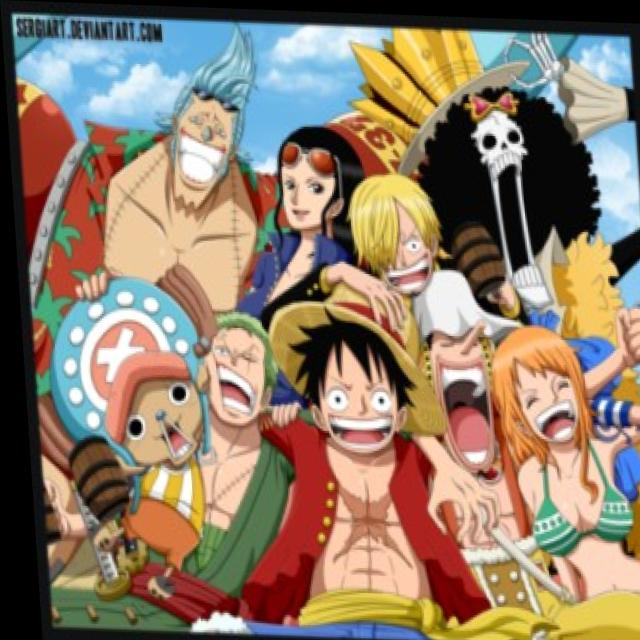Blook: (400, 65, 610, 310)
Chyopa: (22, 262, 216, 492)
Franky: (139, 27, 278, 225)
Luffy: (259, 281, 424, 458)
Nami: (478, 310, 612, 476)
NicoRobin: (251, 113, 369, 246)
Sangdi: (340, 168, 453, 295)
Usopp: (405, 264, 517, 479)
Zoro: (172, 288, 288, 443)
